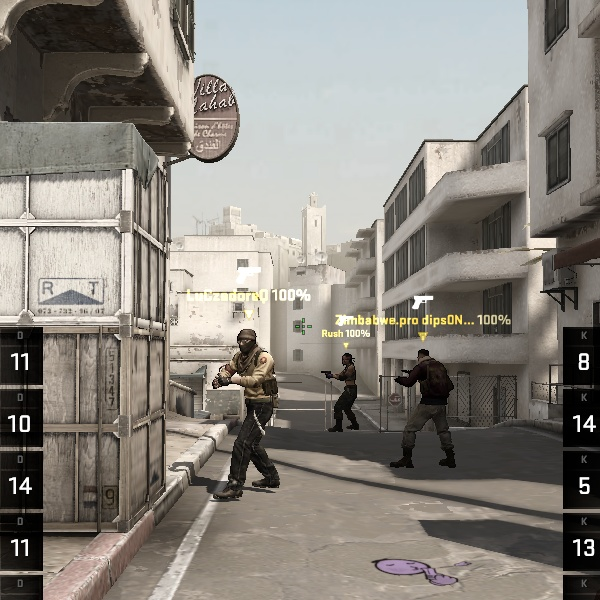t_body: (213, 327, 288, 497), (395, 348, 461, 469), (328, 352, 364, 434)
t_head: (235, 326, 261, 355), (414, 347, 433, 365), (339, 350, 355, 367)
